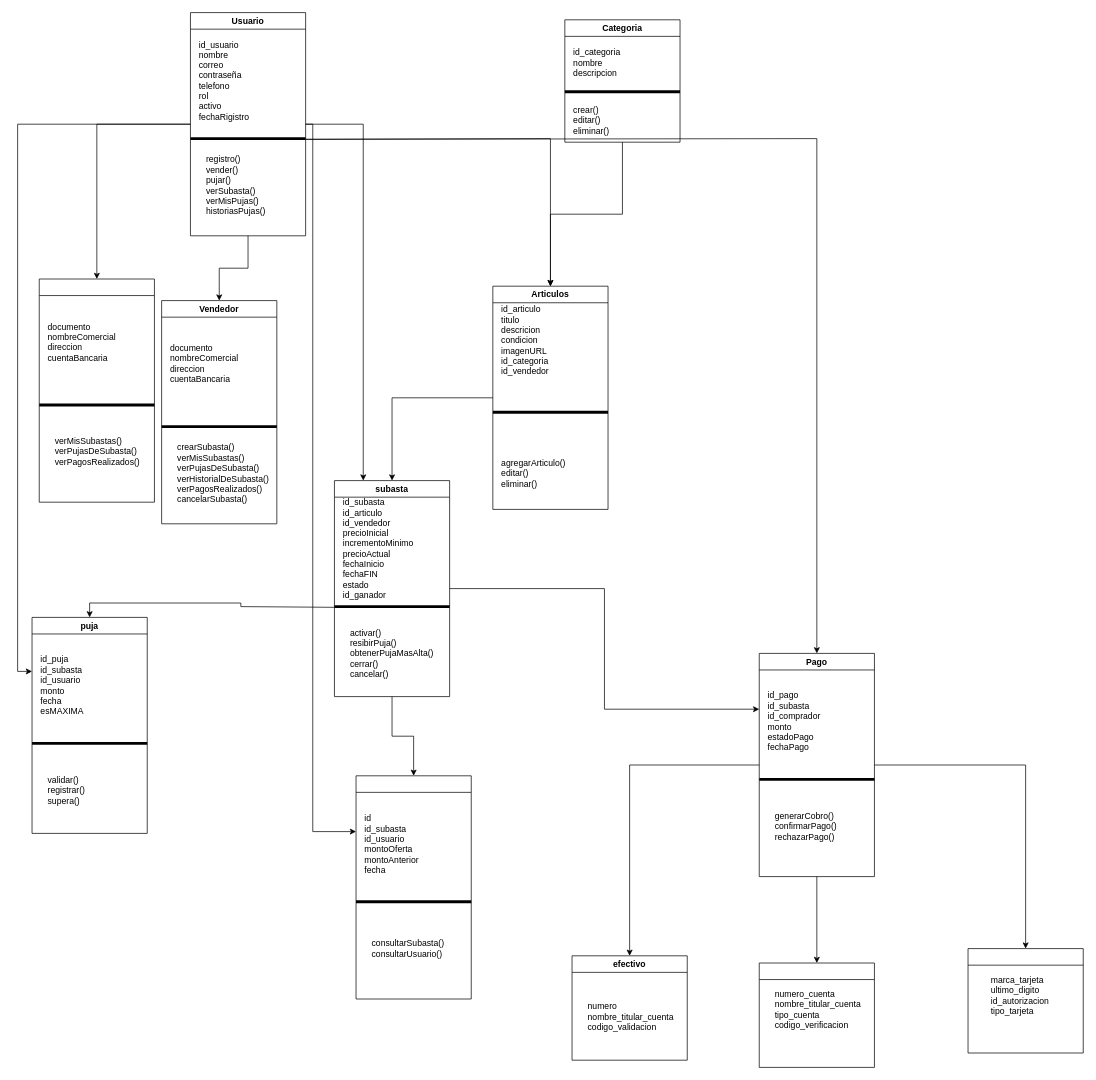
The diagram is 1096 pixels wide and 1080 high, and some of its shapes have lost their labels. Here are the shapes that lost their labels. From the top down, the box of each, then its label:
(39, 278, 154, 502): comprador
(355, 775, 471, 999): historial_Puja
(759, 962, 874, 1067): Bancolombia
(967, 948, 1083, 1053): mercadoPago
